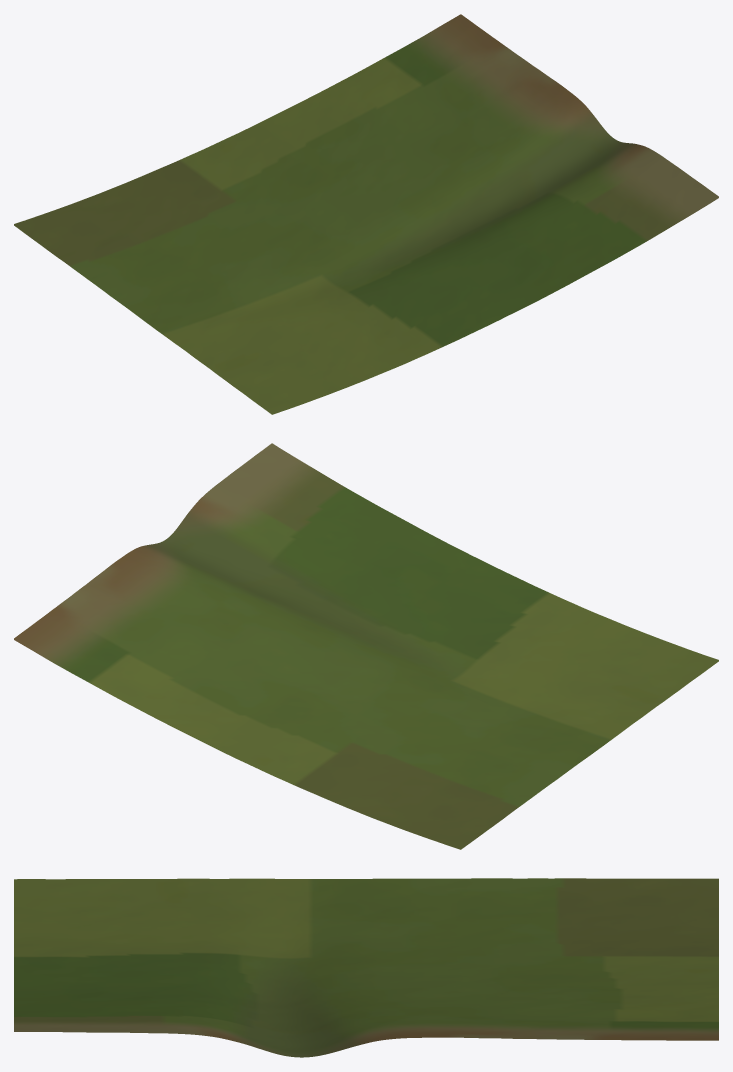
The model's file is land_n_03_04.glb.
3 renders of one model, top to bottom at view 1: azimuth 30°, elevation 25°; view 2: azimuth 150°, elevation 25°; view 3: azimuth 270°, elevation 25°, orthographic. The views are drawn at different scales.
Visible parts, largest first — view 1: land_n_03_04; view 2: land_n_03_04; view 3: land_n_03_04.
Part boxes in pixels (x1,y1,x2,y2): land_n_03_04: [14, 14, 718, 414]; land_n_03_04: [14, 443, 718, 849]; land_n_03_04: [14, 878, 718, 1057].
Size of the model in its own units: 480 by 112 by 480.
